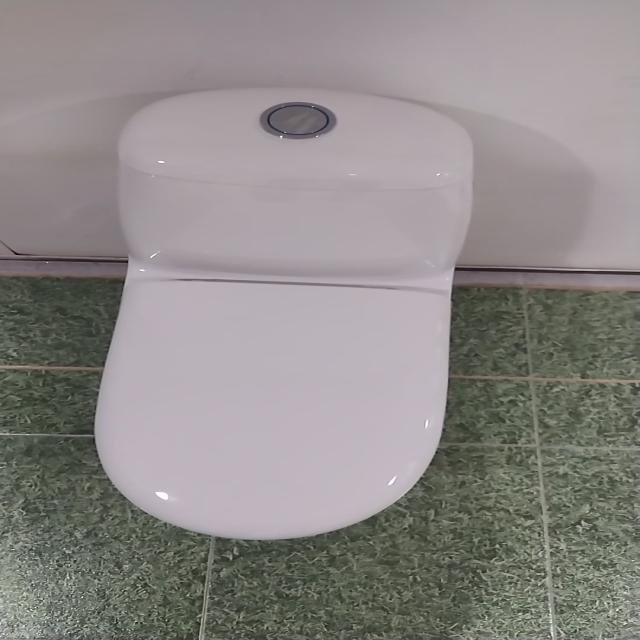toilet: (86, 77, 483, 545)
